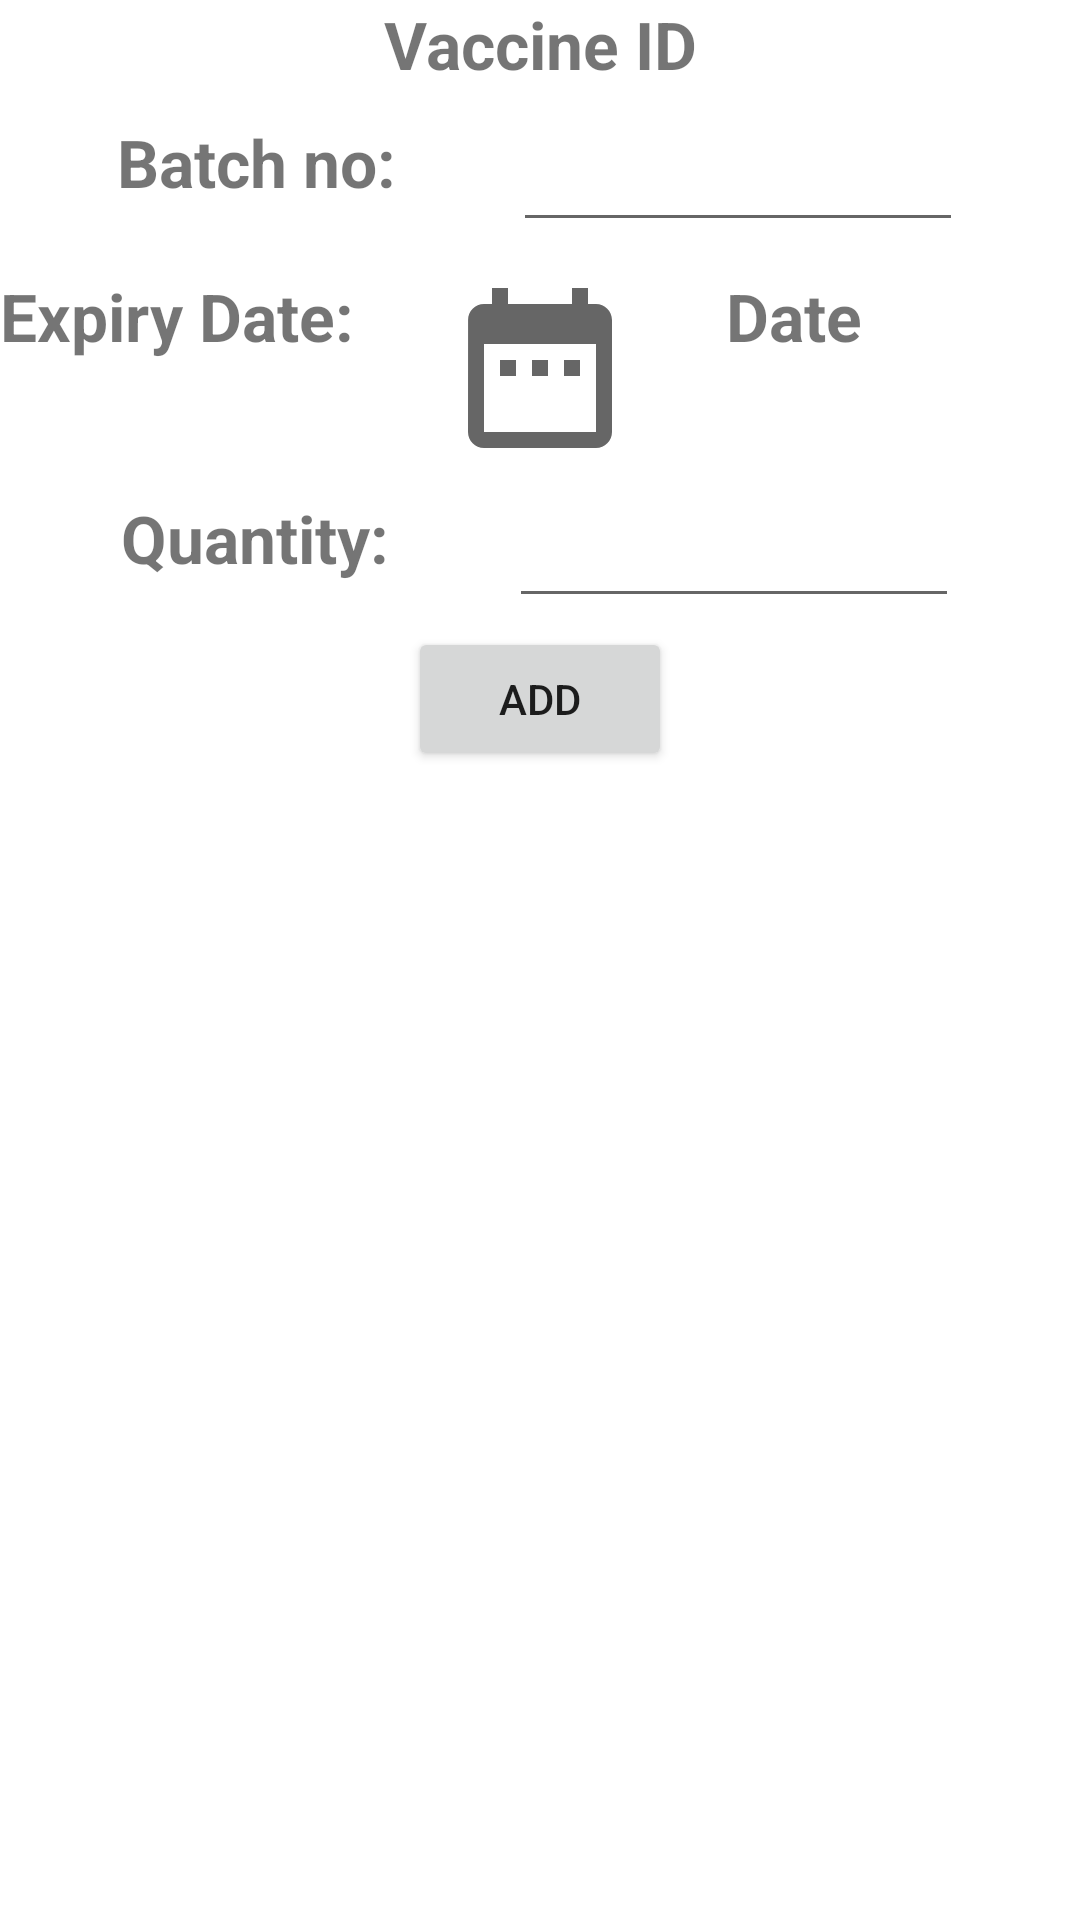

Icon click points for this 1080px×1920px phone screenshot, format (x=x, y=y):
calendar: (x=540, y=368)
